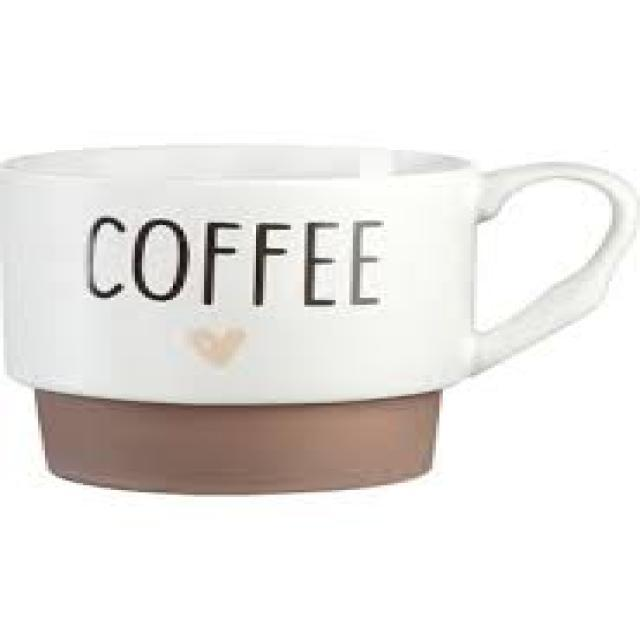taza: (0, 143, 640, 494)
